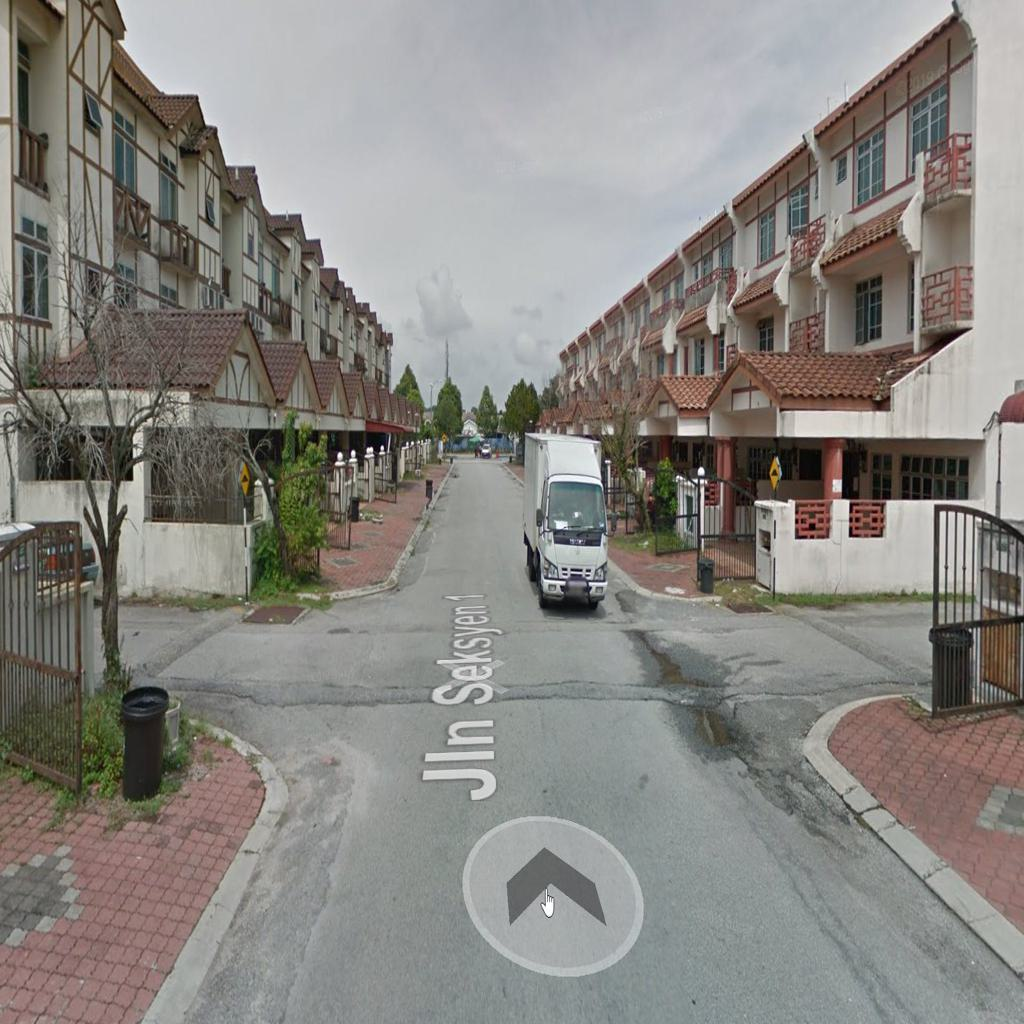Junction: (76, 573, 409, 794), (647, 541, 973, 759)
